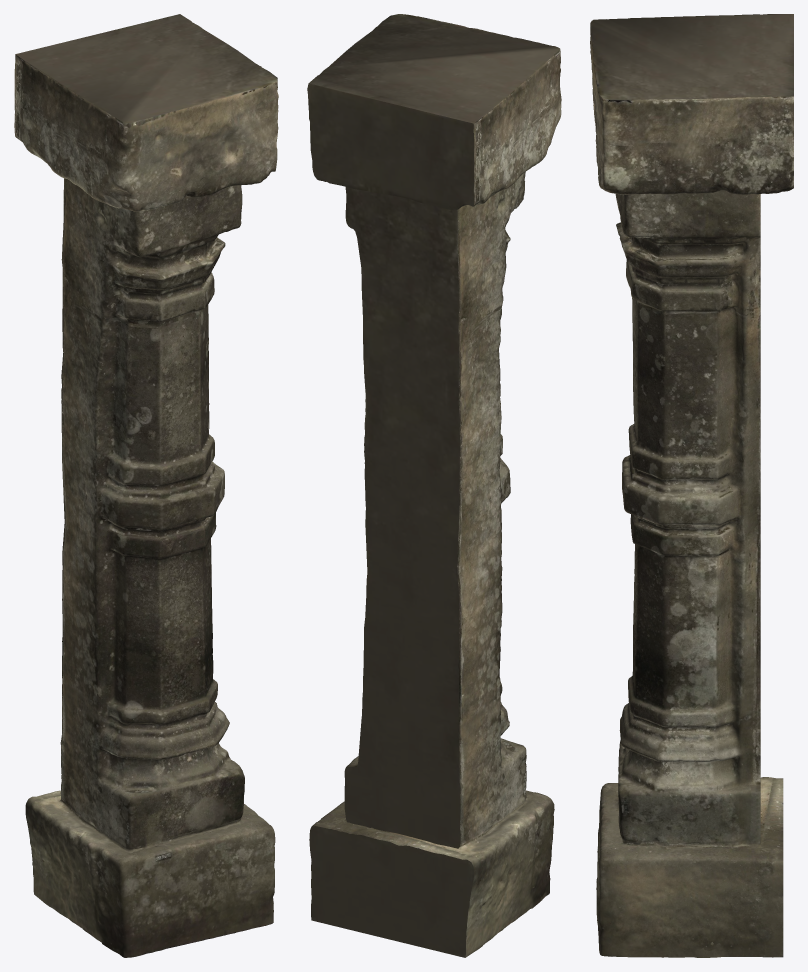
The model's file is MysonMuseum_trucuaC2 (1)_final.glb.
The picture shows the model from 3 angles, left to right: view 1: azimuth 30°, elevation 25°; view 2: azimuth 150°, elevation 25°; view 3: azimuth 270°, elevation 25°; orthographic projection. The views are drawn at different scales.
Bounding box in the file's own units: 0.5186 × 2.38 × 0.5118.
Materials: 1 (1 with a texture image).
